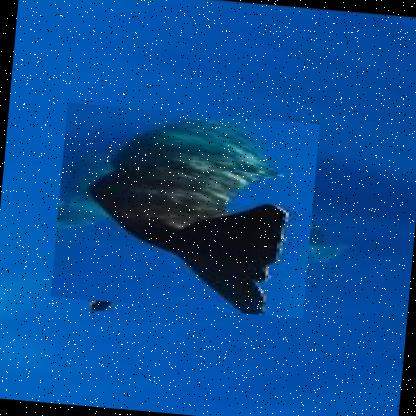sperm_whale: (50, 101, 320, 318)
